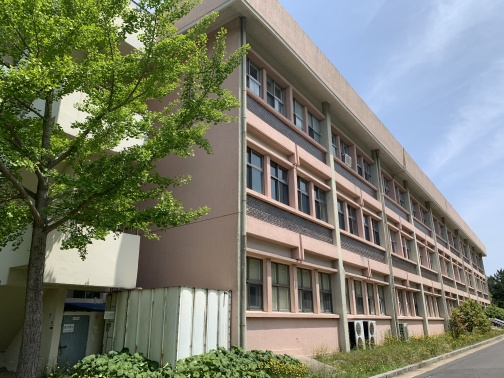College Of Education: (43, 29, 499, 370)
